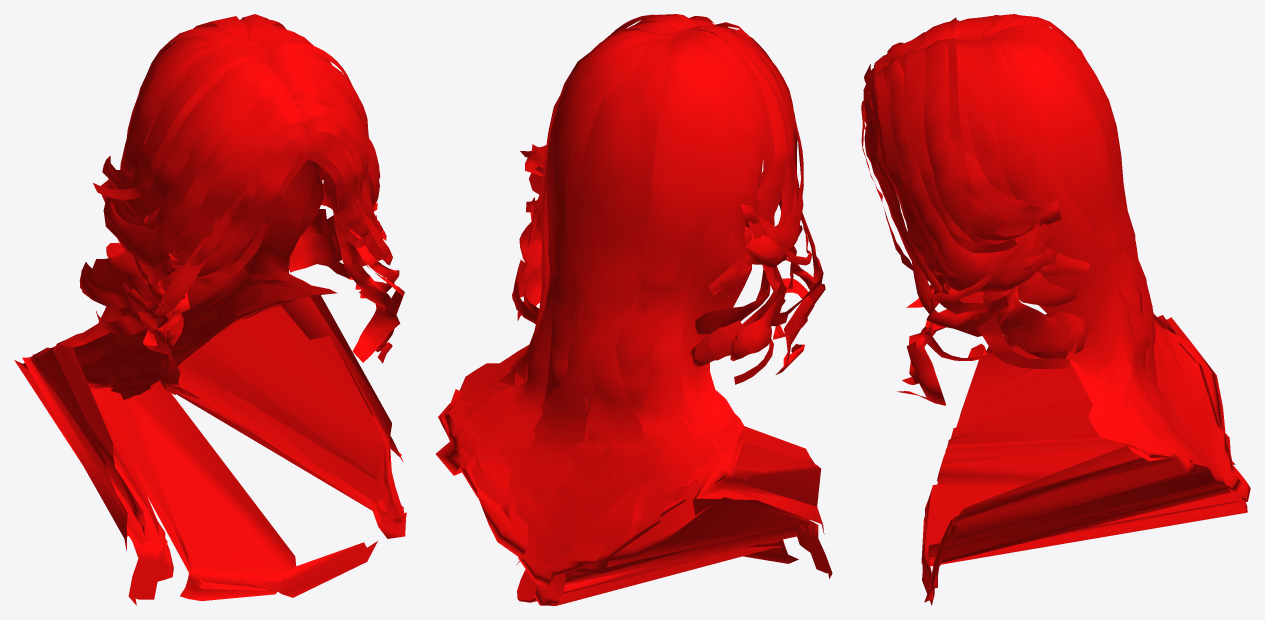
Rendered from elvs_that_80s_babe_hair_M.glb.
3 renders of one model, left to right at view 1: azimuth 30°, elevation 25°; view 2: azimuth 150°, elevation 25°; view 3: azimuth 270°, elevation 25°, orthographic.
Size of the model in its own units: 0.2989 by 0.5273 by 0.3416.
1 material, 1 textured.
